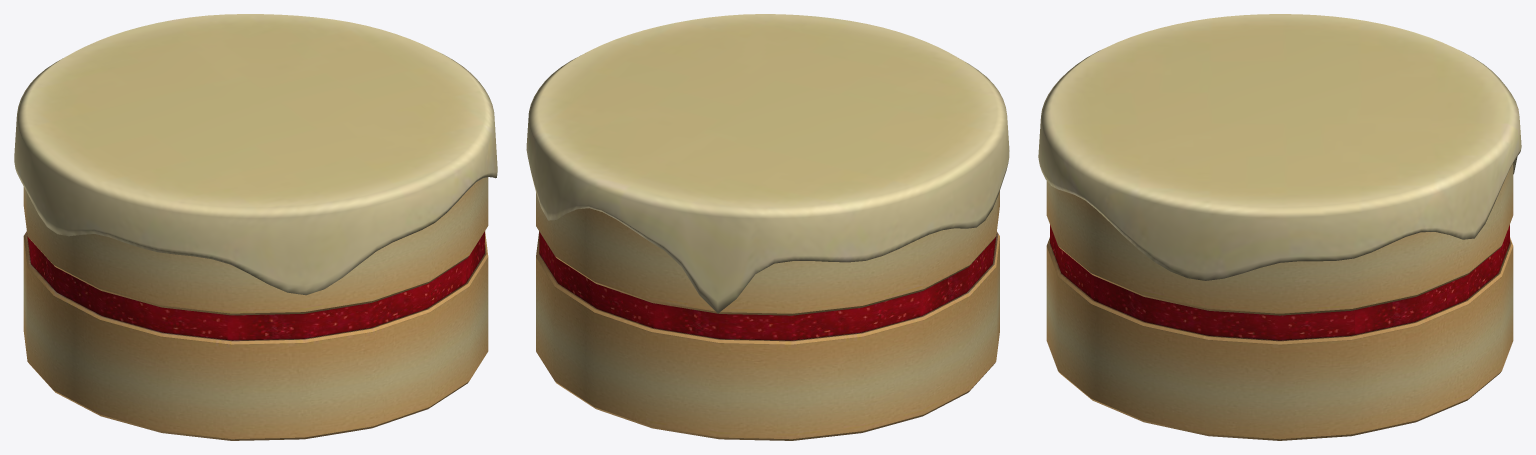
The model's file is jamCreamCake.gltf.
The picture shows the model from 3 angles, left to right: view 1: azimuth 30°, elevation 25°; view 2: azimuth 150°, elevation 25°; view 3: azimuth 270°, elevation 25°; orthographic projection.
Visible parts, largest first — view 1: JamCakeCreamLayer, JamCakeBottomLayer, JamCakeLayer, JamCakeFilling; view 2: JamCakeCreamLayer, JamCakeBottomLayer, JamCakeLayer, JamCakeFilling; view 3: JamCakeCreamLayer, JamCakeBottomLayer, JamCakeLayer, JamCakeFilling.
Part boxes in pixels (left/top/right/bottom): JamCakeCreamLayer: left=14, top=14, right=497, bottom=295; JamCakeBottomLayer: left=23, top=231, right=488, bottom=440; JamCakeLayer: left=23, top=177, right=488, bottom=315; JamCakeFilling: left=27, top=231, right=484, bottom=340; JamCakeCreamLayer: left=526, top=14, right=1009, bottom=313; JamCakeBottomLayer: left=536, top=231, right=999, bottom=440; JamCakeLayer: left=536, top=191, right=999, bottom=315; JamCakeFilling: left=539, top=232, right=996, bottom=340; JamCakeCreamLayer: left=1038, top=14, right=1521, bottom=280; JamCakeBottomLayer: left=1046, top=237, right=1513, bottom=440; JamCakeLayer: left=1046, top=163, right=1513, bottom=315; JamCakeFilling: left=1050, top=225, right=1509, bottom=340.
Size of the model in its own units: 0.2749 by 0.146 by 0.2749.
Materials: 1 (1 with a texture image).
